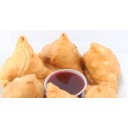samosa: (3, 37, 49, 80), (82, 43, 126, 87), (39, 33, 82, 71)
